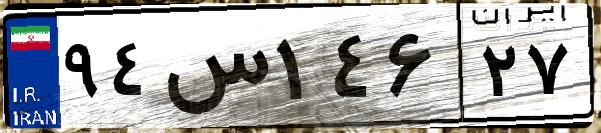1: (270, 28, 330, 110)
2: (475, 38, 525, 113)
4: (330, 28, 385, 110), (110, 28, 158, 98)
6: (385, 28, 445, 110)
7: (525, 38, 570, 115)
9: (57, 26, 110, 100)
س: (158, 20, 270, 120)
